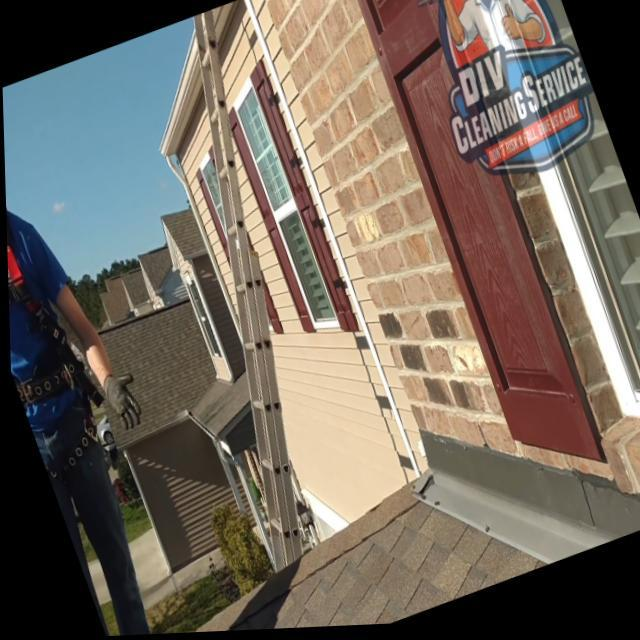belt: (4, 170, 123, 488)
